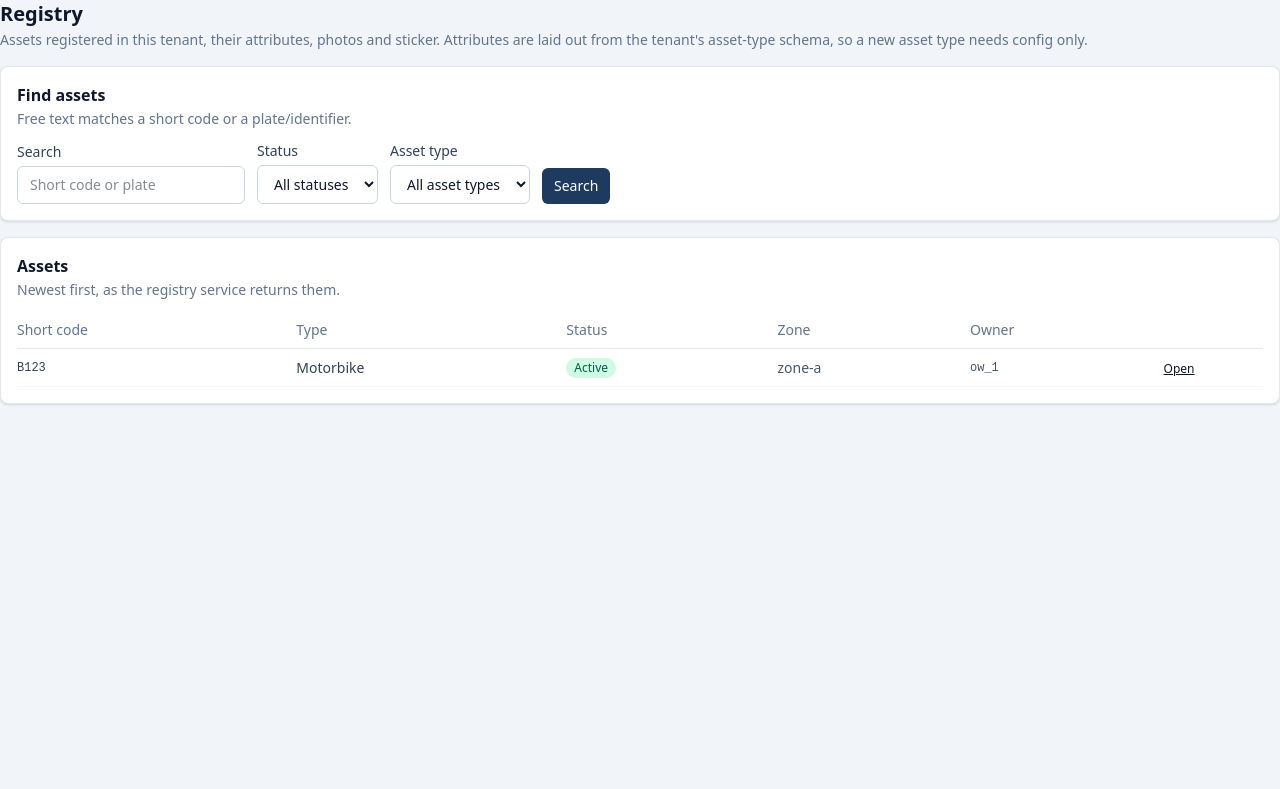
RegistryPage › shows the data but no mutation controls to a read-only role
Step 1. Click the button "Open" → (1179, 368), box [1164,360,1194,376]
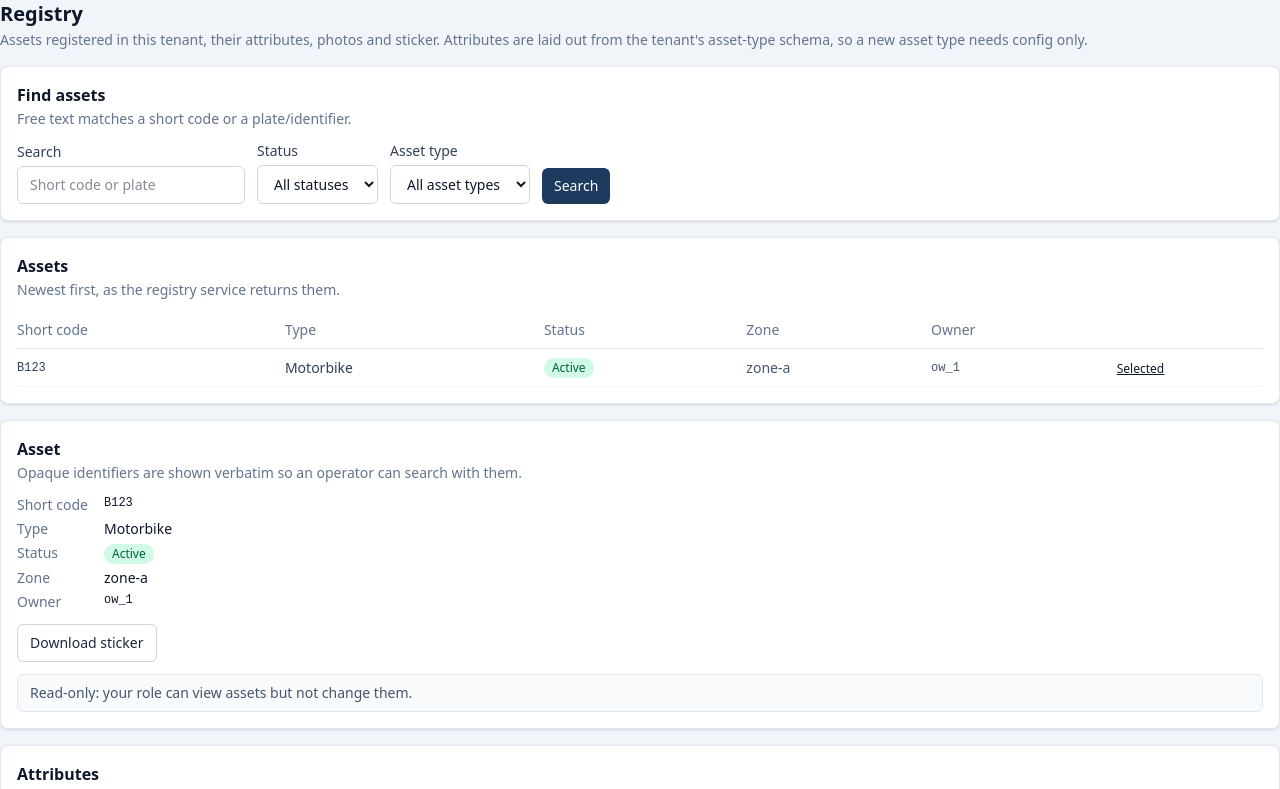
Check: the text "Read-only: your role can view assets but not change them." is shown, box [17,674,1263,712]
